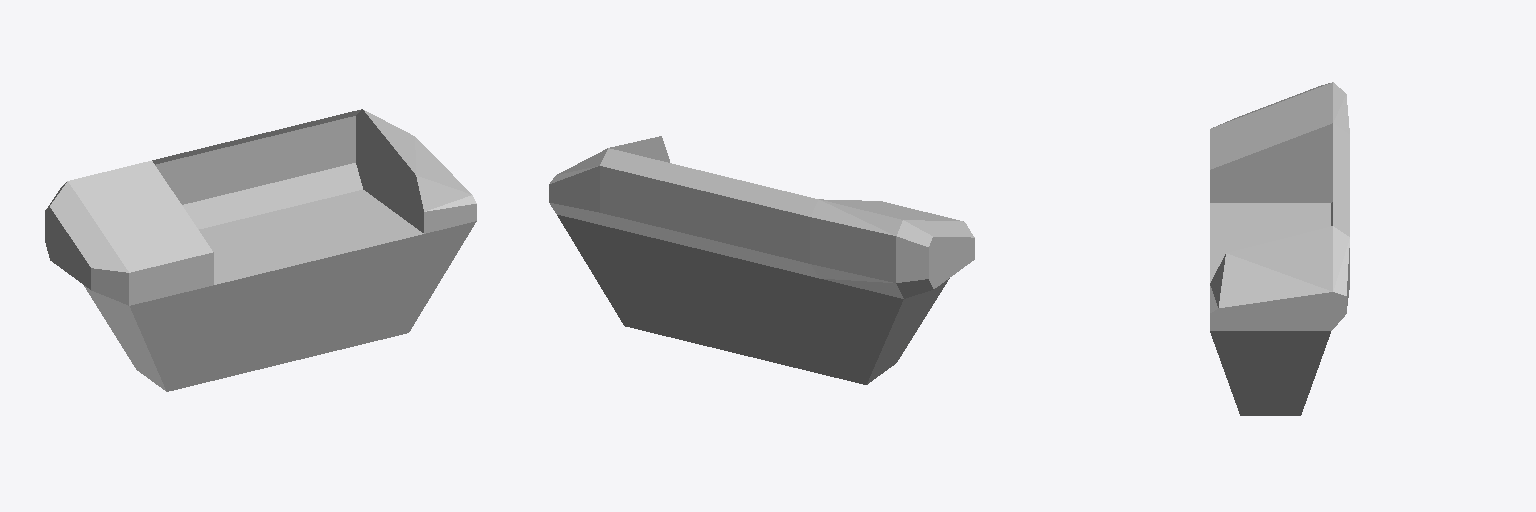
The model's file is Ship0.obj.
3 views of the same model, side by side, from view 1: azimuth 30°, elevation 25°; view 2: azimuth 150°, elevation 25°; view 3: azimuth 270°, elevation 25° (orthographic).
Parts seen in each view (by area): view 1: Cube.001; view 2: Cube.001; view 3: Cube.001.
Part boxes in pixels (x1,y1,x2,y2): Cube.001: (45,109,476,391); Cube.001: (549,136,974,384); Cube.001: (1210,82,1349,415).
Size of the model in its own units: 3.53 by 1.72 by 1.15.